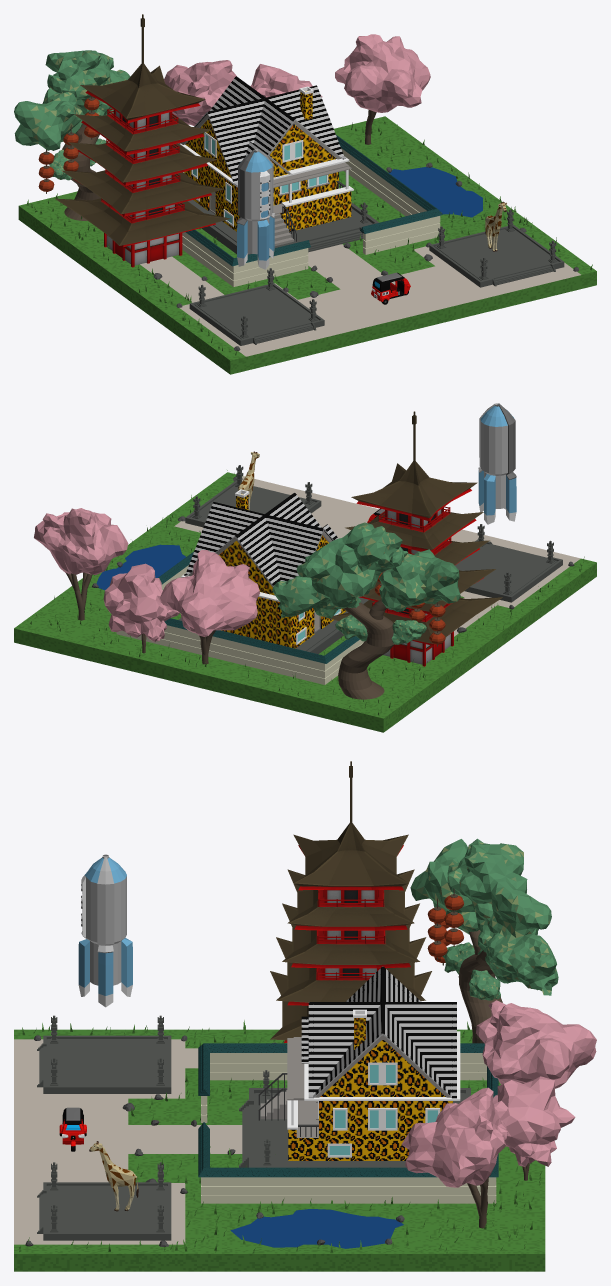
3 views of the same model, one above another, from view 1: azimuth 30°, elevation 25°; view 2: azimuth 150°, elevation 25°; view 3: azimuth 270°, elevation 25° (orthographic). The views are drawn at different scales.
Parts seen in each view (by area): view 1: Cube.005, Cube.637, OBJRANDOM_ROCKETSHIP, VEHICLES_TUC_TUC, ANIMAL_JIRAFA; view 2: Cube.005, Cube.637, OBJRANDOM_ROCKETSHIP; view 3: Cube.005, Cube.637, OBJRANDOM_ROCKETSHIP, ANIMAL_JIRAFA, VEHICLES_TUC_TUC.
Boxes of the visible parts, bbox=[...] form: Cube.005: bbox=[14, 14, 596, 374]; Cube.637: bbox=[178, 76, 353, 246]; OBJRANDOM_ROCKETSHIP: bbox=[236, 149, 274, 269]; VEHICLES_TUC_TUC: bbox=[371, 272, 410, 304]; ANIMAL_JIRAFA: bbox=[485, 201, 506, 251]; Cube.005: bbox=[14, 411, 596, 732]; Cube.637: bbox=[181, 489, 346, 648]; OBJRANDOM_ROCKETSHIP: bbox=[478, 403, 516, 524]; Cube.005: bbox=[14, 761, 596, 1271]; Cube.637: bbox=[258, 966, 460, 1160]; OBJRANDOM_ROCKETSHIP: bbox=[78, 854, 132, 1007]; ANIMAL_JIRAFA: bbox=[89, 1141, 138, 1211]; VEHICLES_TUC_TUC: bbox=[59, 1107, 86, 1151].
Size of the model in its own units: 4528 by 2690 by 4389.
Materials: 45 (6 with a texture image).
